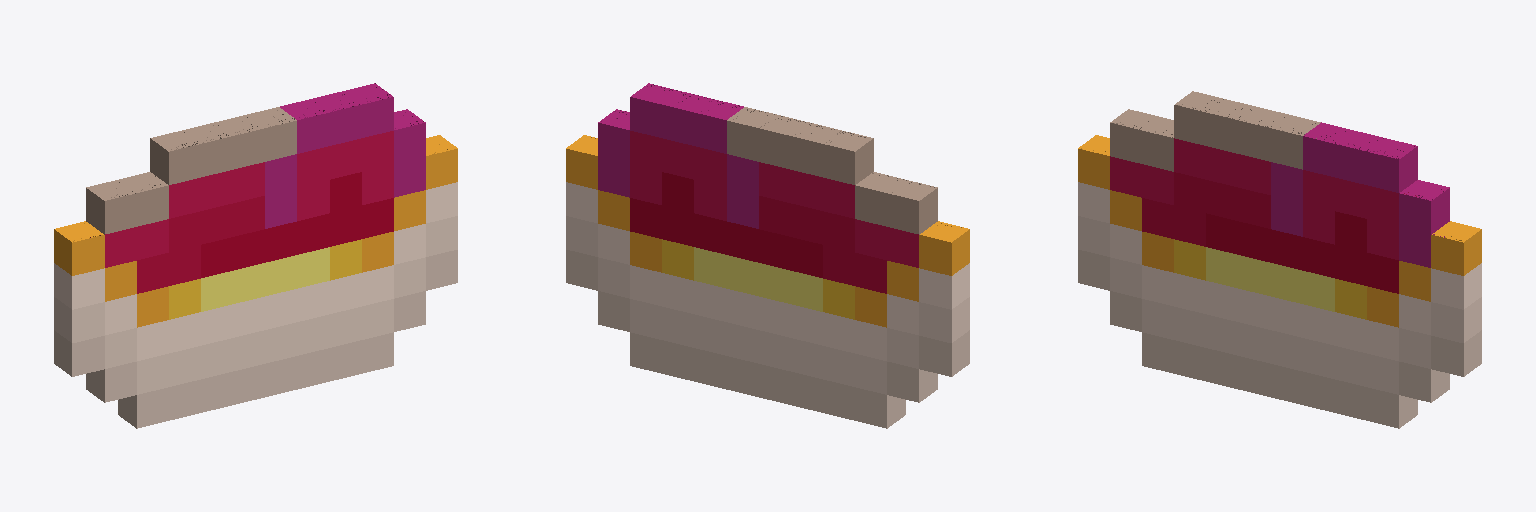
3 views of the same model, side by side, from view 1: azimuth 30°, elevation 25°; view 2: azimuth 150°, elevation 25°; view 3: azimuth 330°, elevation 25° (orthographic).
Bounding box in the file's own units: 0.75 × 0.5 × 0.0625.
1 materials, 1 textured.